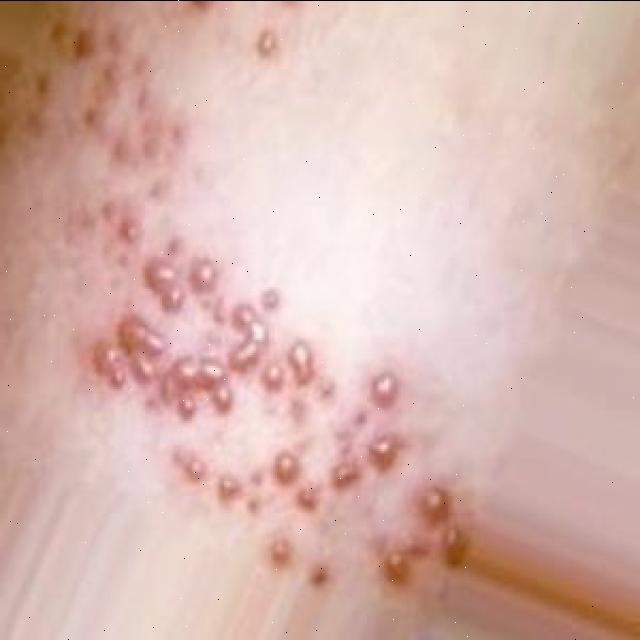Shingles: (70, 202, 471, 591)
